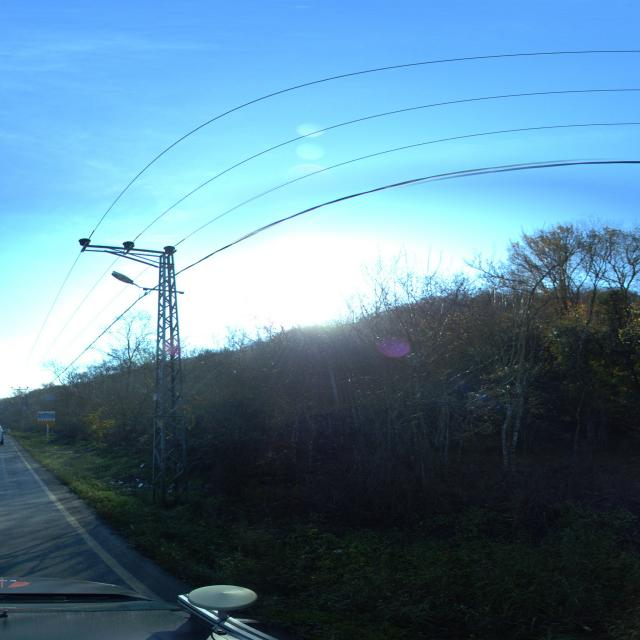Utility Pole Information Plate: (153, 393, 157, 401)
